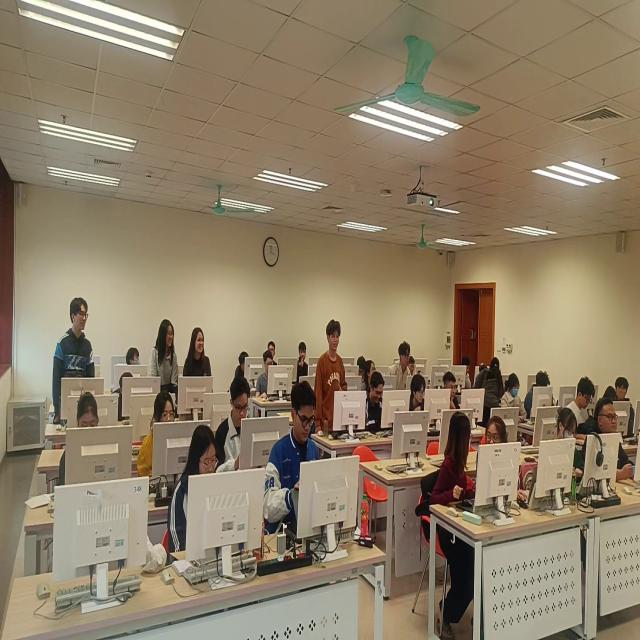raise_head: (585, 401, 640, 491), (392, 343, 415, 381), (296, 338, 314, 384), (614, 379, 634, 408), (268, 341, 277, 359)
stand: (53, 299, 96, 428), (315, 319, 349, 443), (186, 323, 214, 416), (151, 319, 181, 395), (481, 357, 501, 432)
using_computer: (264, 382, 339, 536), (168, 423, 224, 563), (57, 395, 111, 489), (135, 393, 185, 491), (217, 387, 269, 479), (549, 411, 586, 497), (362, 374, 398, 441), (410, 375, 446, 426), (439, 374, 475, 424), (506, 377, 539, 428), (567, 377, 598, 427), (529, 371, 558, 419), (257, 351, 284, 402), (232, 347, 258, 389), (458, 358, 477, 393)
